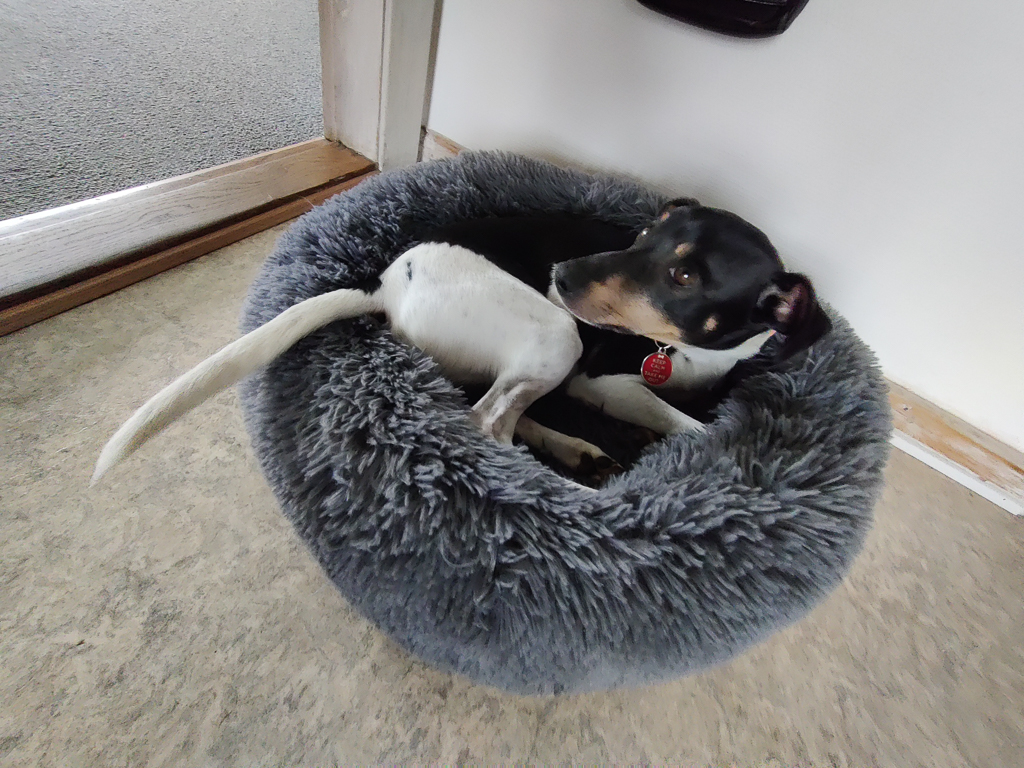Dog: (53, 174, 877, 519)
